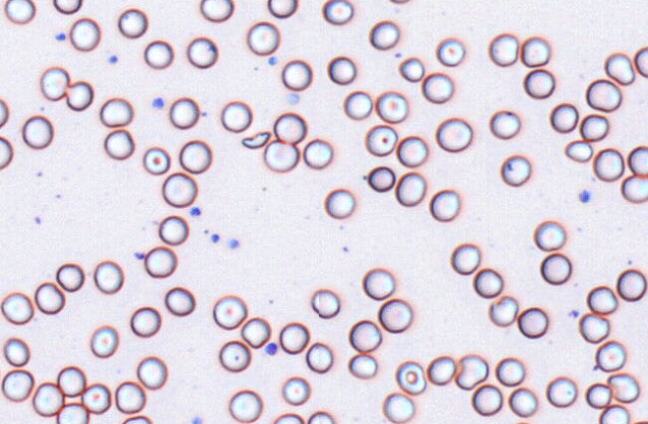PLT: (578, 189, 591, 205), (264, 341, 277, 356), (151, 97, 165, 110), (106, 54, 119, 65), (189, 207, 202, 217), (228, 239, 239, 250), (54, 31, 66, 41), (210, 232, 220, 244), (189, 417, 205, 424), (267, 57, 277, 67)
RBC: (435, 117, 472, 152), (162, 171, 197, 207), (212, 294, 247, 329), (585, 78, 621, 112), (263, 139, 299, 172), (378, 298, 412, 332), (1, 368, 34, 402), (228, 389, 262, 422), (32, 382, 64, 417), (348, 319, 381, 352), (362, 267, 395, 300), (0, 291, 33, 324), (144, 245, 177, 278), (247, 21, 279, 55), (179, 139, 211, 173), (273, 112, 306, 144), (375, 91, 408, 123), (395, 360, 426, 394), (22, 115, 53, 149), (69, 17, 100, 51), (136, 355, 167, 389), (593, 147, 624, 181), (395, 171, 425, 206), (218, 340, 250, 372), (365, 124, 397, 156), (396, 135, 428, 167), (220, 100, 252, 132), (114, 380, 145, 413), (471, 383, 502, 416), (604, 52, 635, 85), (540, 252, 571, 285), (99, 97, 133, 127), (93, 260, 123, 294), (40, 66, 69, 101), (382, 392, 414, 423), (545, 376, 577, 407), (421, 72, 453, 103), (34, 282, 65, 314), (523, 68, 555, 99), (500, 154, 531, 186), (186, 36, 217, 68), (616, 268, 646, 301), (578, 312, 609, 343), (595, 340, 626, 371), (302, 138, 333, 169), (517, 307, 548, 338), (534, 220, 565, 251), (281, 59, 312, 90), (130, 306, 161, 337), (240, 316, 270, 348), (169, 97, 199, 129), (429, 189, 459, 221), (279, 321, 309, 353), (489, 33, 518, 66), (81, 383, 111, 414), (473, 267, 503, 298), (324, 188, 355, 218), (450, 243, 480, 274), (520, 36, 550, 67), (164, 286, 195, 316), (57, 365, 86, 397), (90, 325, 118, 358), (104, 129, 134, 159), (117, 8, 147, 38), (158, 215, 188, 245), (369, 20, 399, 50), (586, 285, 617, 314), (489, 110, 520, 139), (426, 355, 455, 385), (508, 387, 537, 417), (495, 356, 524, 386), (143, 40, 173, 69), (343, 90, 372, 120), (311, 288, 340, 318), (65, 80, 93, 111), (550, 102, 578, 133), (281, 376, 310, 405), (55, 263, 84, 292), (579, 113, 609, 141), (305, 342, 332, 373), (142, 146, 170, 175), (327, 56, 356, 84), (436, 37, 464, 66), (366, 165, 395, 192), (621, 174, 647, 203), (348, 353, 377, 379), (3, 337, 29, 366), (4, 0, 35, 24), (322, 0, 353, 24), (200, 0, 233, 22), (585, 382, 611, 409), (56, 402, 89, 423), (564, 139, 593, 162), (627, 145, 648, 176), (399, 56, 424, 82), (598, 404, 629, 423), (267, 0, 297, 18), (0, 135, 13, 169), (634, 46, 648, 77), (53, 0, 82, 14), (273, 412, 304, 423), (307, 411, 334, 423), (122, 415, 152, 423), (0, 98, 8, 127), (510, 420, 533, 424), (388, 0, 411, 4), (631, 420, 647, 424)
Schistocyte: (457, 355, 490, 391), (606, 373, 641, 403), (488, 296, 519, 327), (239, 131, 271, 148)
